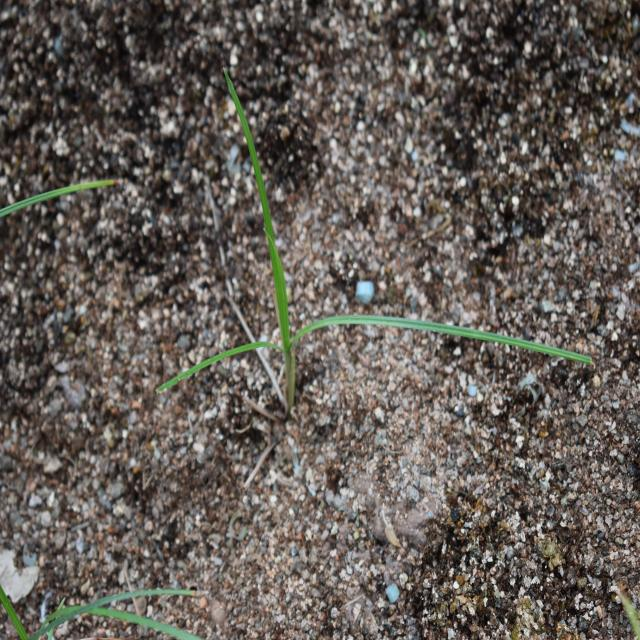sedge: (127, 66, 562, 427)
